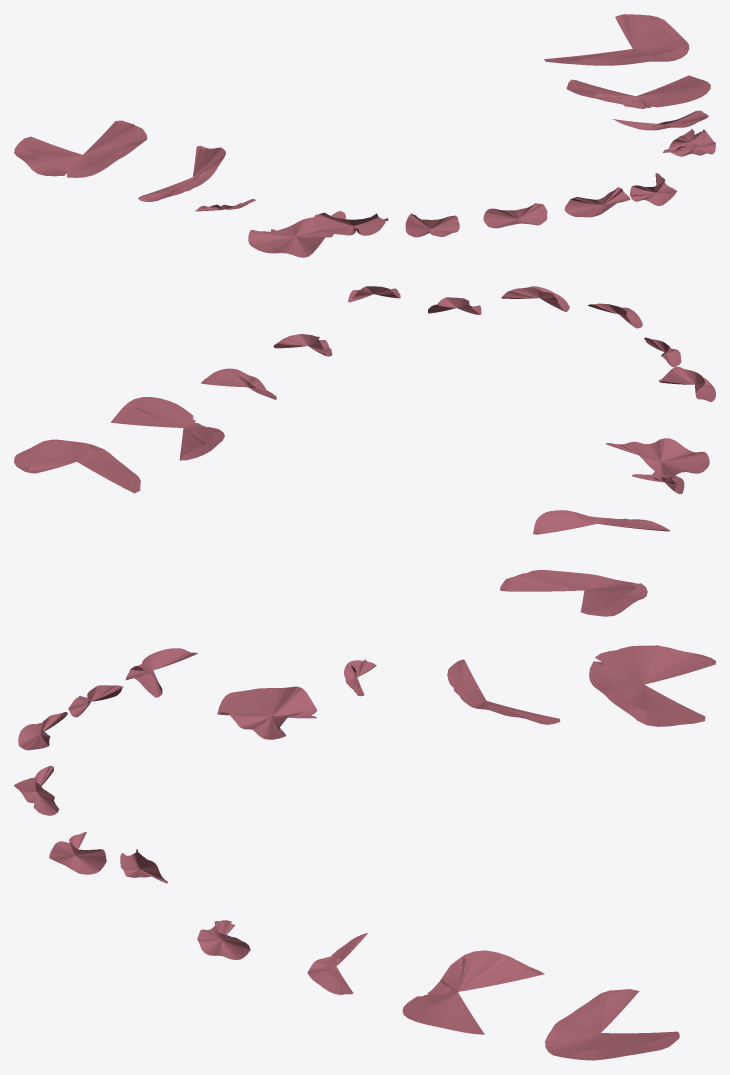
The model's file is upper_gingival_covers.glb.
The picture shows the model from 3 angles, top to bottom: view 1: azimuth 30°, elevation 25°; view 2: azimuth 150°, elevation 25°; view 3: azimuth 270°, elevation 25°; orthographic projection. The views are drawn at different scales.
Parts seen in each view (by area): view 1: Cover_17, Cover_27, Cover_26, Cover_14, Cover_16, Cover_13, Cover_11, Cover_21, Cover_12, Cover_22, Cover_25, Cover_23 (+1 smaller); view 2: Cover_17, Cover_27, Cover_26, Cover_14, Cover_16, Cover_25, Cover_13, Cover_21, Cover_24, Cover_22; view 3: Cover_17, Cover_27, Cover_26, Cover_14, Cover_16, Cover_22, Cover_25, Cover_24, Cover_13, Cover_21, Cover_11, Cover_23 (+1 smaller).
Boxes of the visible parts, x1,y1,x2,y2 form: Cover_17: [14, 120, 147, 177]; Cover_27: [544, 14, 689, 65]; Cover_26: [566, 75, 710, 108]; Cover_14: [248, 211, 345, 257]; Cover_16: [138, 145, 225, 201]; Cover_13: [313, 212, 388, 235]; Cover_11: [483, 203, 547, 228]; Cover_21: [564, 187, 630, 217]; Cover_12: [405, 213, 459, 237]; Cover_22: [630, 173, 677, 205]; Cover_25: [612, 110, 708, 130]; Cover_23: [669, 128, 705, 151]; Cover_17: [500, 570, 647, 616]; Cover_27: [14, 439, 140, 493]; Cover_26: [111, 397, 224, 460]; Cover_14: [606, 438, 709, 475]; Cover_16: [533, 510, 670, 534]; Cover_25: [201, 368, 276, 399]; Cover_13: [658, 366, 715, 401]; Cover_21: [501, 286, 569, 311]; Cover_24: [273, 334, 332, 356]; Cover_22: [428, 297, 481, 314]; Cover_17: [589, 645, 715, 726]; Cover_27: [545, 989, 679, 1060]; Cover_26: [402, 950, 544, 1034]; Cover_14: [217, 686, 317, 739]; Cover_16: [447, 659, 560, 724]; Cover_22: [49, 832, 106, 874]; Cover_25: [307, 933, 367, 994]; Cover_24: [197, 920, 250, 959]; Cover_13: [125, 648, 197, 697]; Cover_21: [14, 765, 59, 815]; Cover_11: [18, 712, 67, 750]; Cover_23: [120, 849, 167, 883].
Size of the model in its own units: 62.02 by 7.72 by 46.25.
